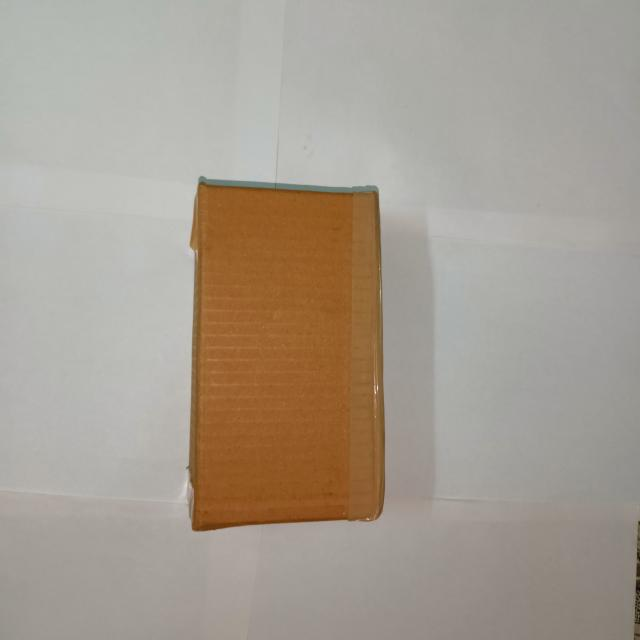box: (191, 186, 382, 528)
